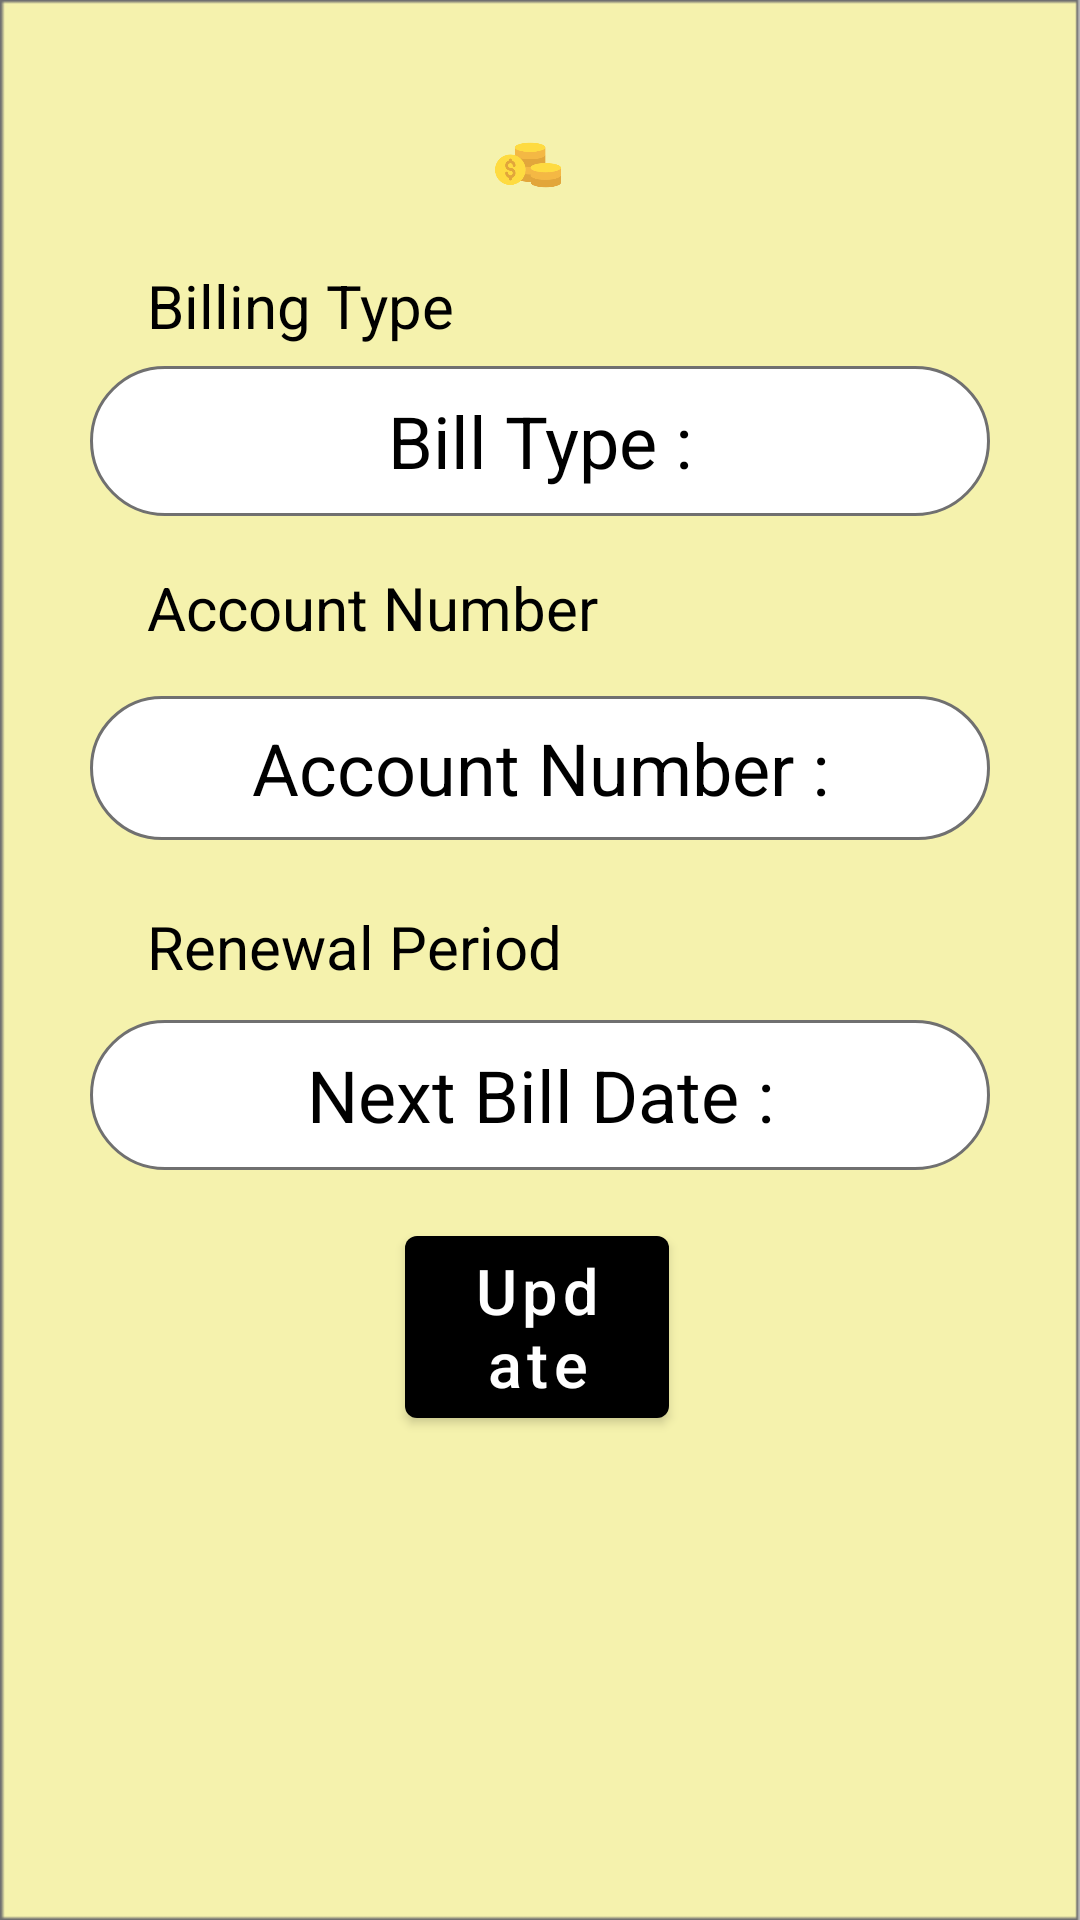

Screen size 1080*1920. Icon name, then its center in pixels as point (x, y):
dollar: point (528, 165)
